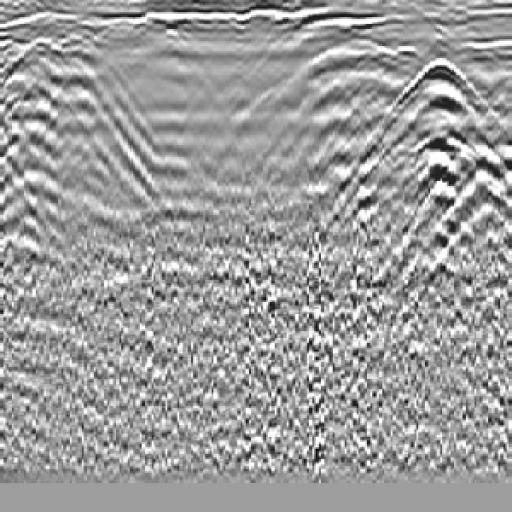non-metallic: (332, 34, 512, 300)
